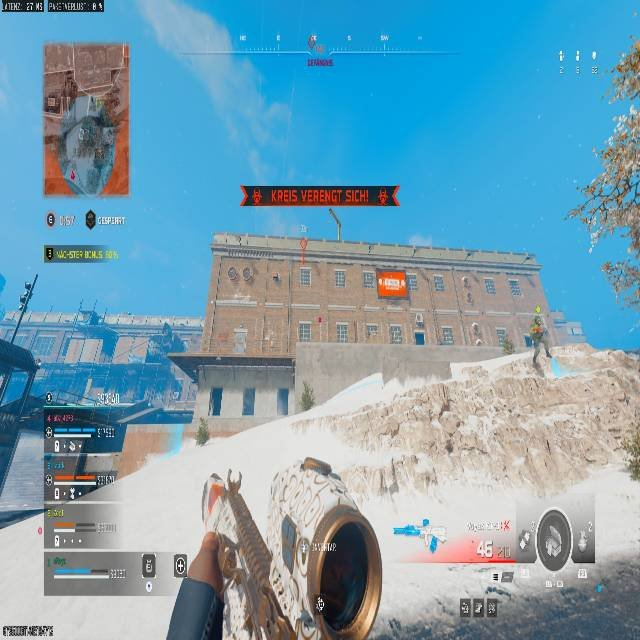head: (534, 315, 541, 324)
player: (528, 314, 551, 378)
